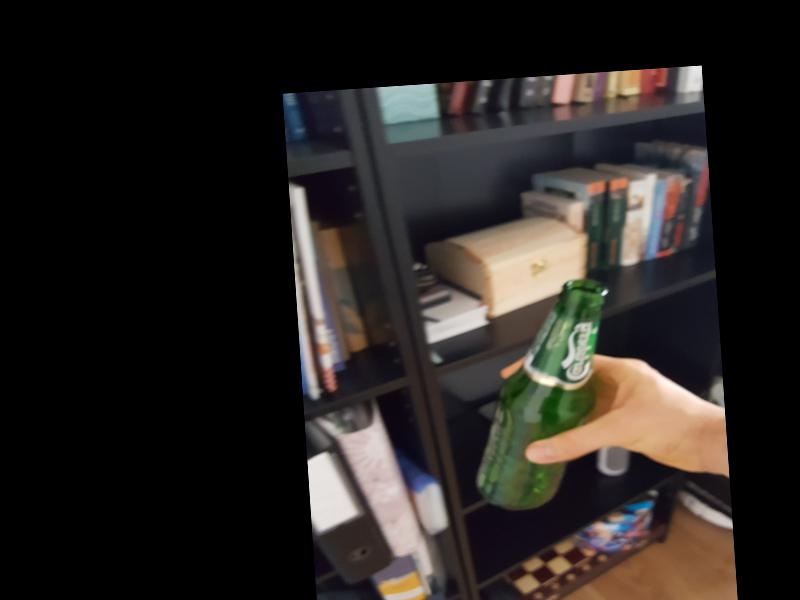Beer: (459, 278, 619, 513)
